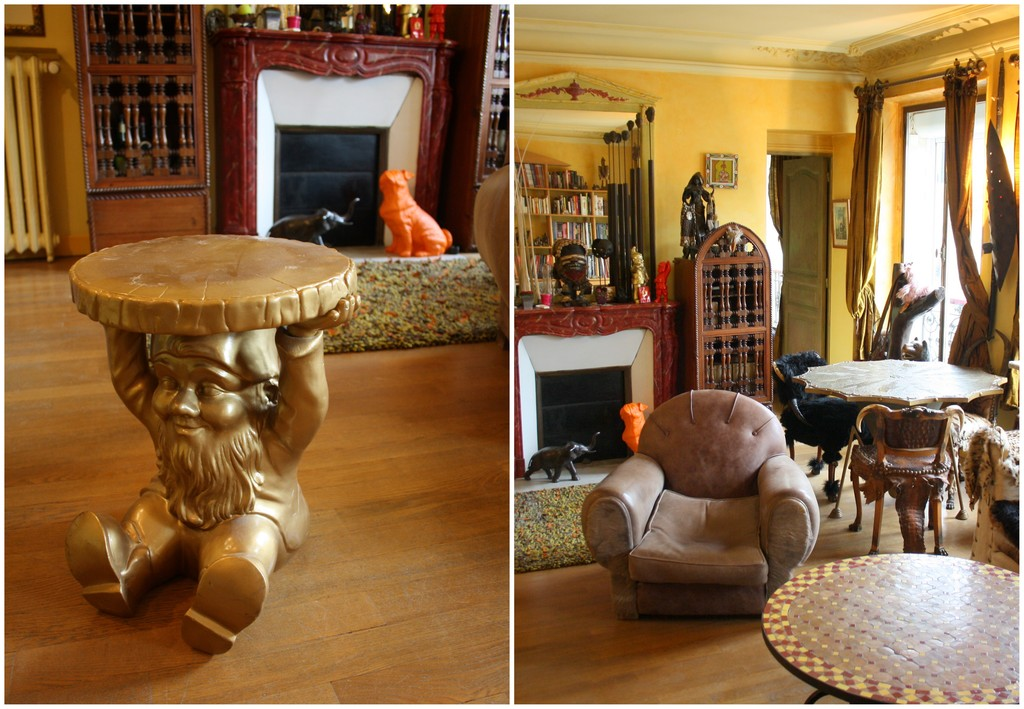Human_hand: (293, 295, 360, 332), (634, 261, 644, 271), (662, 259, 673, 268), (708, 182, 716, 192)
